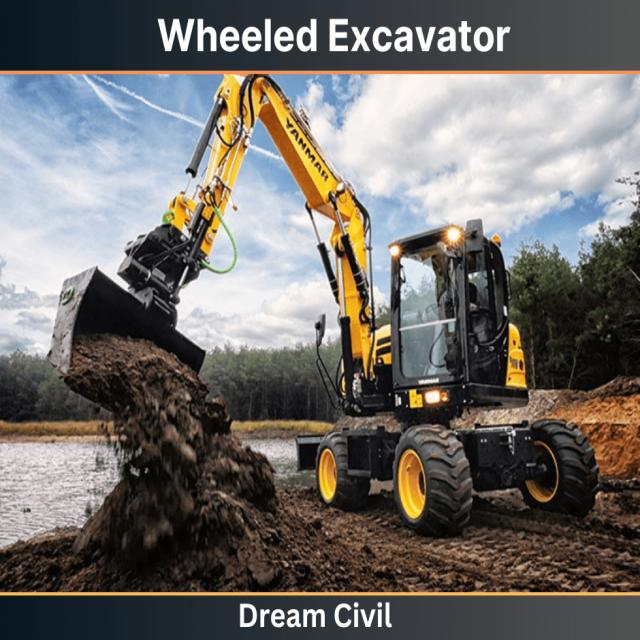excavator: (44, 72, 600, 532)
